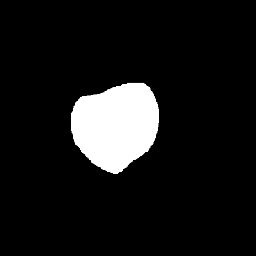mass: (69, 88, 159, 174)
